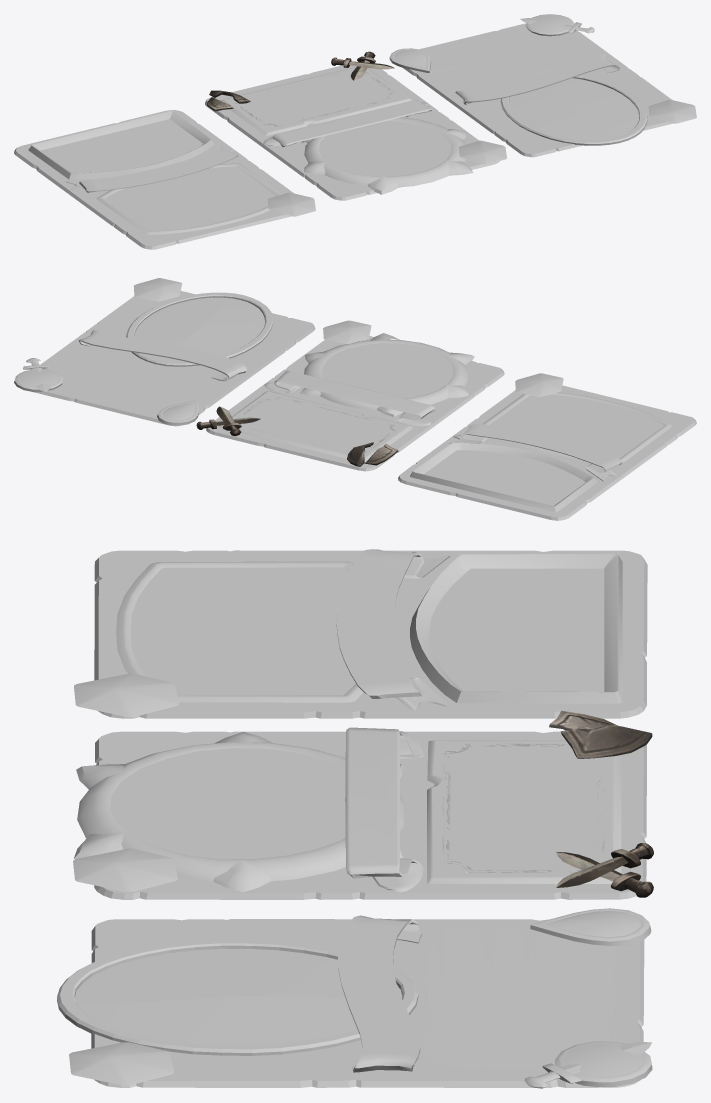
The model's file is card.FBX.
3 renders of one model, top to bottom at view 1: azimuth 30°, elevation 25°; view 2: azimuth 150°, elevation 25°; view 3: azimuth 270°, elevation 25°, orthographic. The views are drawn at different scales.
Parts seen in each view (by area): view 1: 2bcdafb8.obj, 2be66460.obj, 2bcf0f20.obj, 2be62e50.obj, 2be47ad8.obj, 2bcdcac0.obj, 2be64958.obj, 2bcf2a28.obj, 2bcf4530.obj, 8d321f0.obj, 2bd1e2c0.obj, 8d49c60.obj (+11 smaller); view 2: 2bcf0f20.obj, 2be66460.obj, 2be62e50.obj, 2bcdafb8.obj, 2bcf2a28.obj, 2be47ad8.obj, 2bcdcac0.obj, 2bcf4530.obj, 2be64958.obj, 8d321f0.obj, 2bd1e2c0.obj, 8d43040.obj (+11 smaller); view 3: 2bcdafb8.obj, 2be66460.obj, 2be62e50.obj, 2bcf0f20.obj, 2bcf2a28.obj, 2be47ad8.obj, 2bcdcac0.obj, 2bcf4530.obj, 2be64958.obj, 8d321f0.obj, 8d43040.obj, 2bd1e2c0.obj (+12 smaller).
Boxes of the visible parts, box(x1,y1,x2,y2) form: 2bcdafb8.obj: box(105, 166, 276, 231); 2be66460.obj: box(220, 67, 412, 135); 2bcf0f20.obj: box(403, 23, 672, 157); 2be62e50.obj: box(427, 28, 592, 90); 2be47ad8.obj: box(509, 78, 639, 139); 2bcdcac0.obj: box(318, 121, 451, 176); 2be64958.obj: box(41, 119, 202, 173); 2bcf2a28.obj: box(14, 110, 293, 249); 2bcf4530.obj: box(205, 61, 499, 200); 8d321f0.obj: box(304, 117, 473, 194); 2bd1e2c0.obj: box(28, 110, 214, 179); 8d49c60.obj: box(455, 54, 620, 104); 2bcf0f20.obj: box(33, 291, 315, 426); 2be66460.obj: box(218, 391, 413, 462); 2be62e50.obj: box(49, 349, 219, 412); 2bcdafb8.obj: box(489, 394, 663, 458); 2bcf2a28.obj: box(398, 385, 696, 520); 2be47ad8.obj: box(134, 297, 264, 361); 2bcdcac0.obj: box(322, 343, 453, 398); 2bcf4530.obj: box(206, 336, 504, 471); 2be64958.obj: box(424, 450, 585, 505); 8d321f0.obj: box(300, 333, 474, 416); 2bd1e2c0.obj: box(410, 442, 597, 512); 8d43040.obj: box(449, 423, 621, 481); 2bcdafb8.obj: box(130, 567, 355, 695); 2be66460.obj: box(427, 740, 621, 883); 2be62e50.obj: box(425, 928, 616, 1069); 2bcf0f20.obj: box(91, 919, 644, 1087); 2bcf2a28.obj: box(94, 550, 647, 718); 2be47ad8.obj: box(75, 948, 402, 1044); 2bcdcac0.obj: box(110, 748, 345, 859); 2bcf4530.obj: box(94, 731, 646, 899); 2be64958.obj: box(429, 568, 604, 691); 8d321f0.obj: box(74, 731, 406, 892); 8d43040.obj: box(336, 549, 450, 710); 2bd1e2c0.obj: box(410, 553, 622, 703).
Size of the model in its own units: 0.0313 by 0.000818 by 0.0145.
